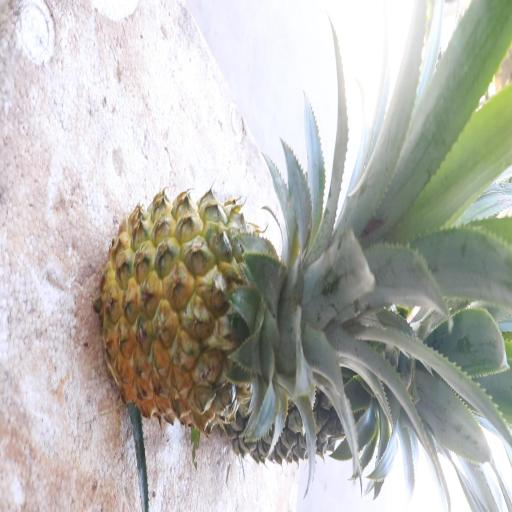Pineapple - v8 v1: (92, 180, 383, 441)
